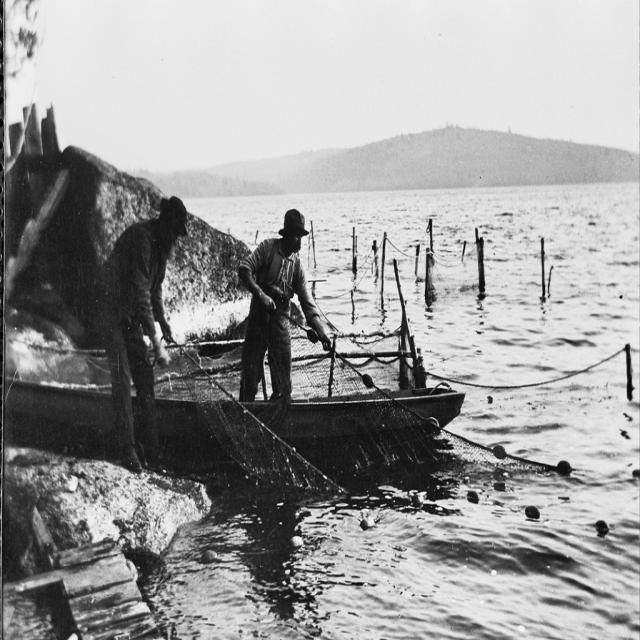Boat: (0, 328, 469, 477)
